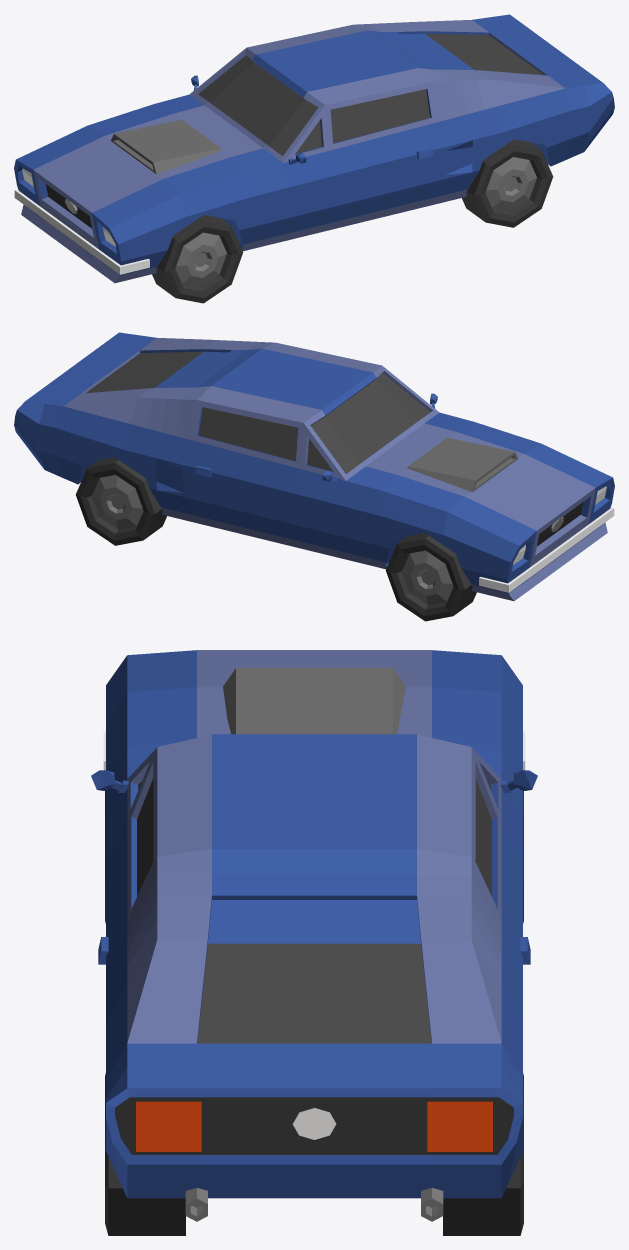
Rendered from car_F.fbx.
The picture shows the model from 3 angles, top to bottom: view 1: azimuth 30°, elevation 25°; view 2: azimuth 150°, elevation 25°; view 3: azimuth 270°, elevation 25°; orthographic projection. The views are drawn at different scales.
Parts seen in each view (by area): view 1: American1; view 2: American1; view 3: American1.
Part boxes in pixels (x1,y1,x2,y2): American1: [14, 14, 614, 303]; American1: [14, 332, 614, 621]; American1: [91, 650, 537, 1235].
Bounding box in the file's own units: 1673 × 511 × 643.
